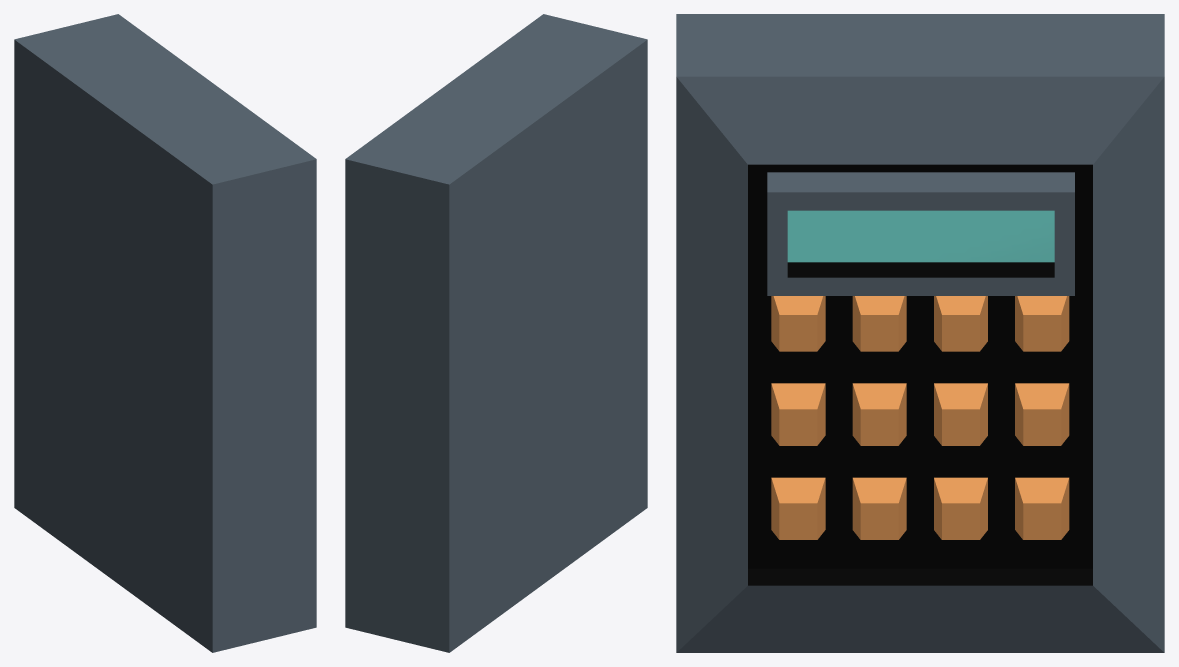
Rendered from controlpanel_1.fbx.
3 views of the same model, side by side, from view 1: azimuth 30°, elevation 25°; view 2: azimuth 150°, elevation 25°; view 3: azimuth 270°, elevation 25° (orthographic). The views are drawn at different scales.
Visible parts, largest first — view 1: Cube.001; view 2: Cube.001; view 3: Cube.001.
Part boxes in pixels (x1,y1,x2,y2): Cube.001: [14, 14, 316, 652]; Cube.001: [345, 14, 647, 652]; Cube.001: [676, 14, 1164, 652].
Size of the model in its own units: 7.7 by 26.05 by 20.
